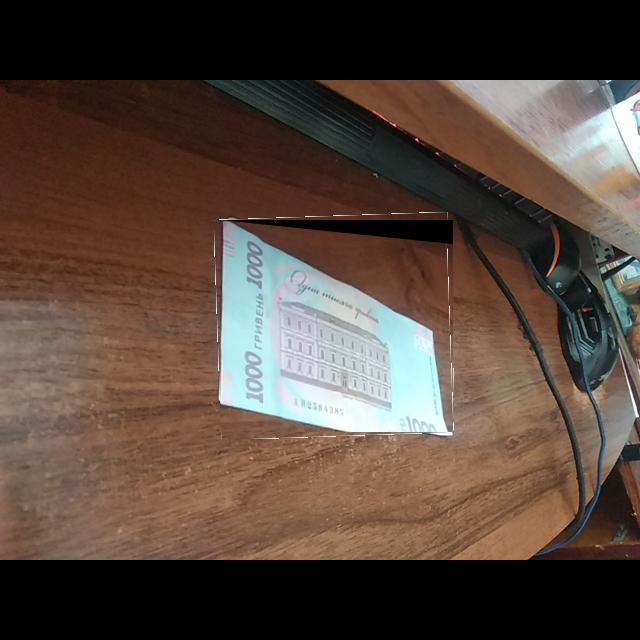1000uah: (221, 221, 453, 433)
